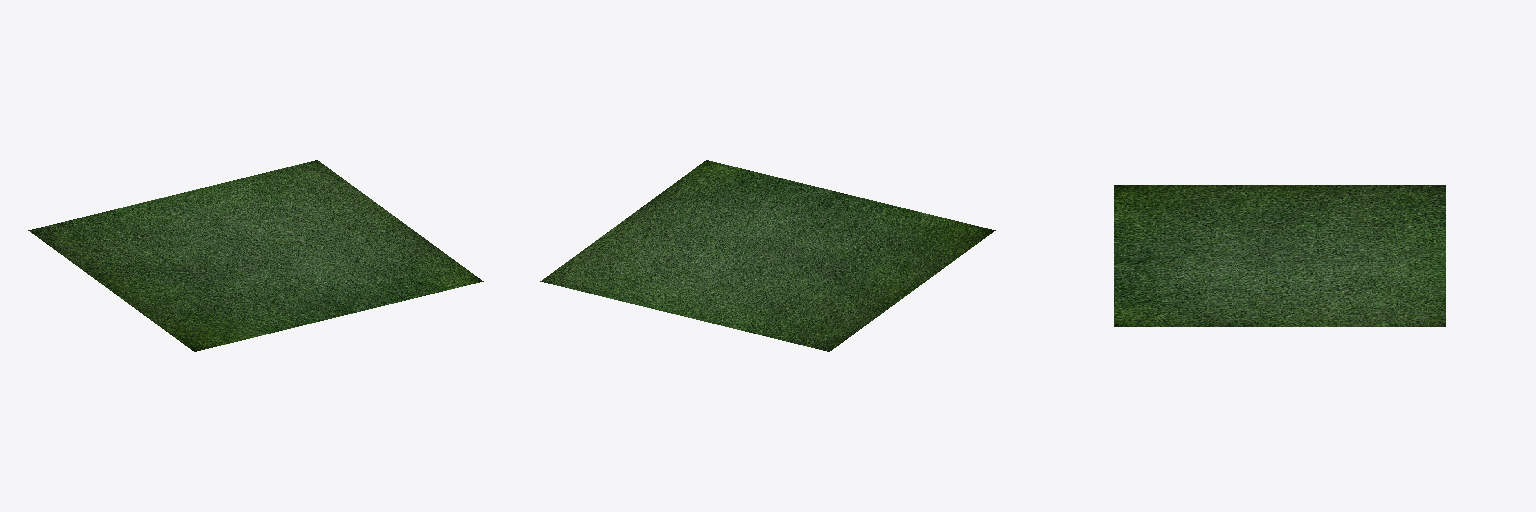
3 views of the same model, side by side, from view 1: azimuth 30°, elevation 25°; view 2: azimuth 150°, elevation 25°; view 3: azimuth 270°, elevation 25° (orthographic).
Parts seen in each view (by area): view 1: Plane001; view 2: Plane001; view 3: Plane001.
Part boxes in pixels (x1,y1,x2,y2): Plane001: (28,160,483,351); Plane001: (540,160,995,351); Plane001: (1114,185,1445,326).
Bounding box in the file's own units: 140 × 0 × 139.
1 materials, 1 textured.